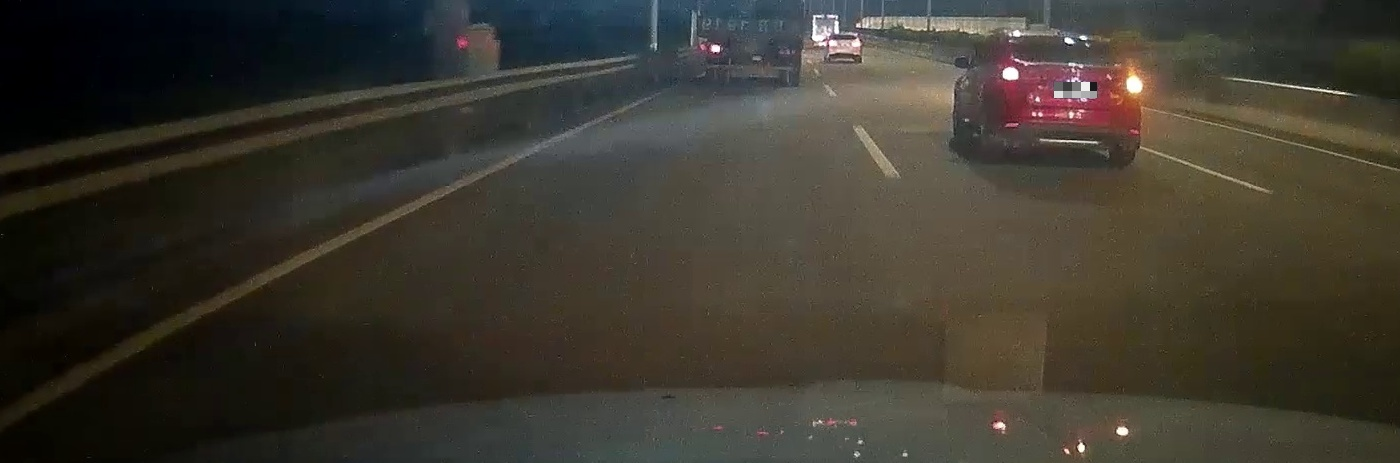L_light: (1000, 66, 1026, 84)
R_light: (1116, 73, 1143, 93)
T_light: (1055, 36, 1079, 42)
night-right: (993, 29, 1144, 166)
plate_1: (1054, 82, 1097, 98)
